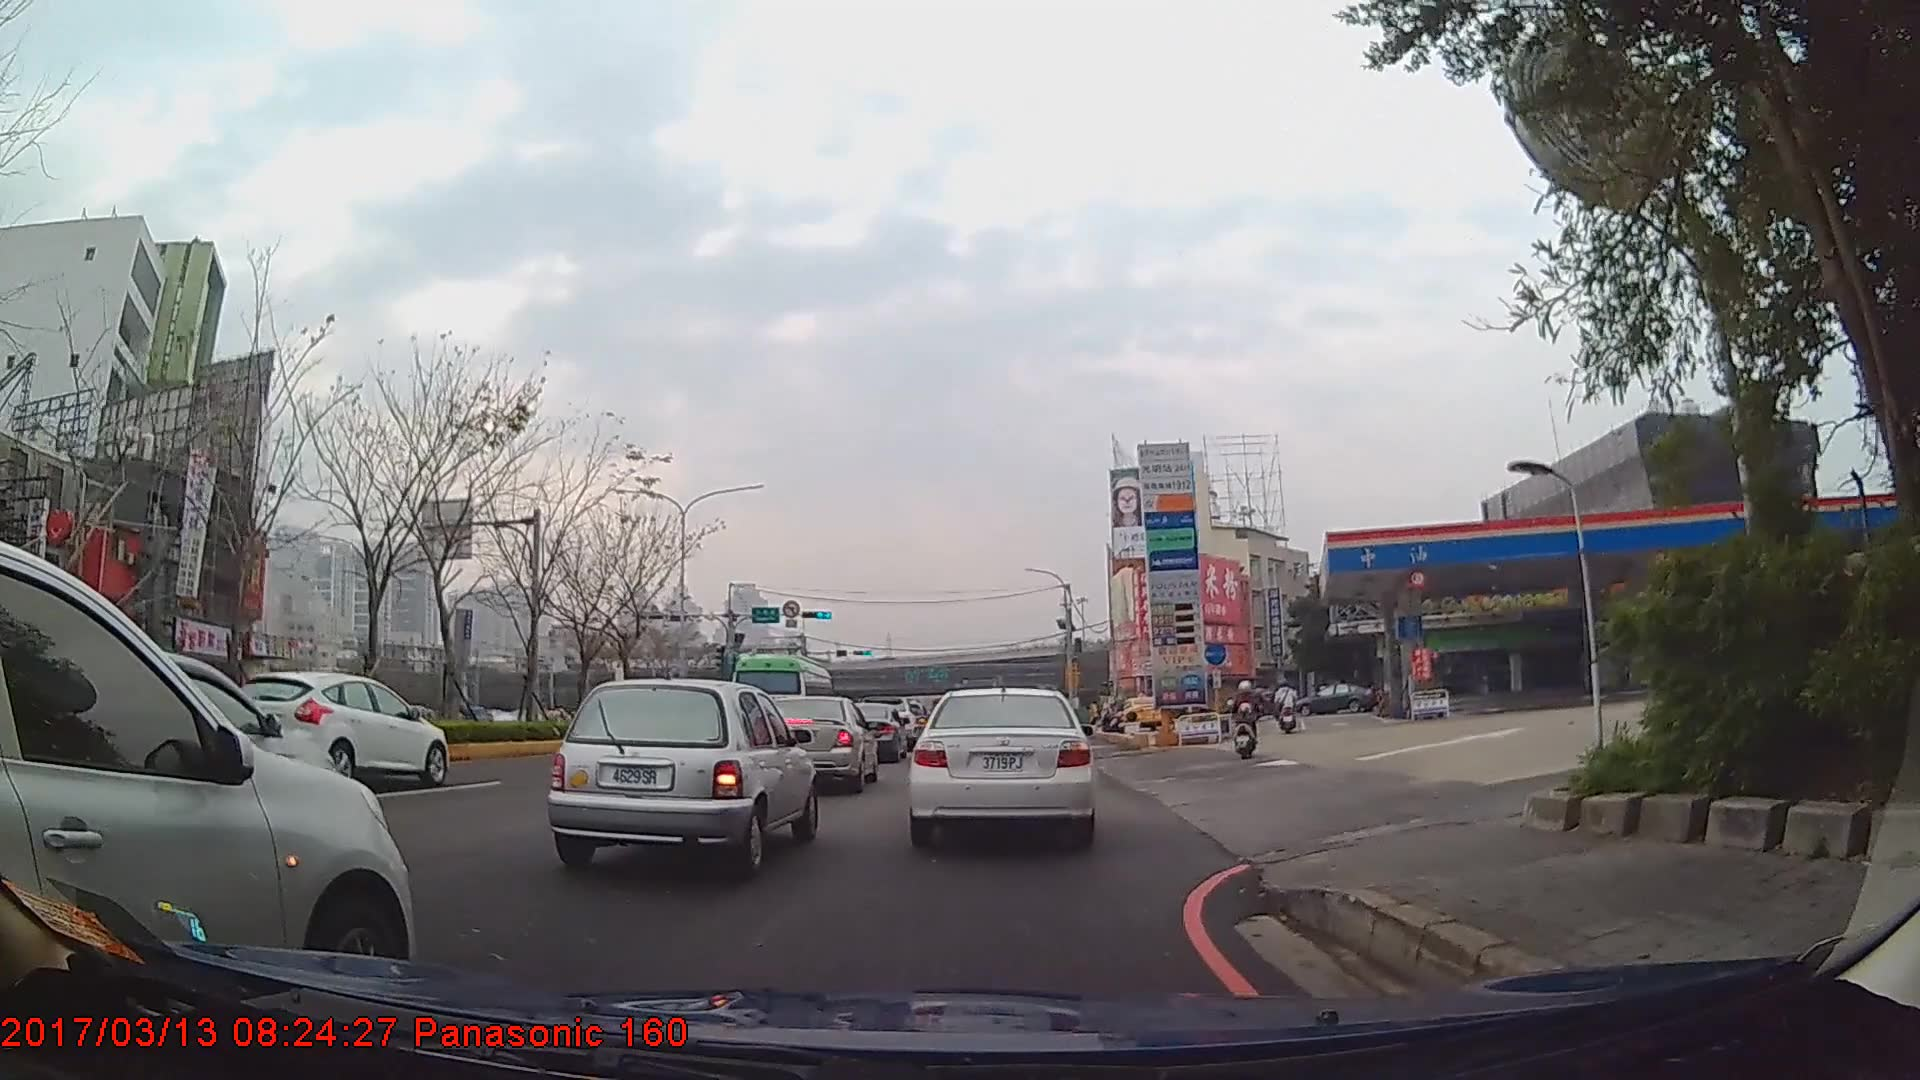rider: (1228, 674, 1261, 755), (1274, 681, 1299, 734)
vehicle: (0, 540, 414, 1012), (544, 671, 817, 875), (911, 683, 1095, 848), (226, 671, 450, 789), (750, 691, 876, 790), (726, 648, 831, 738), (832, 697, 908, 763), (1296, 679, 1376, 712), (1115, 691, 1164, 726)
